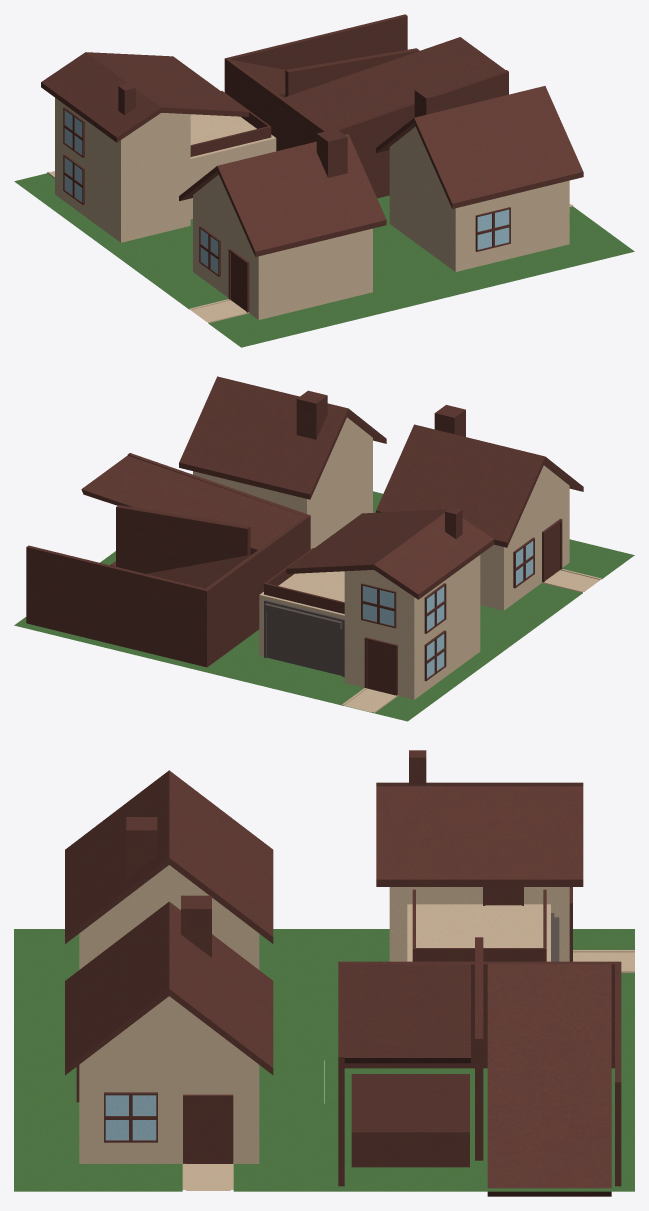
Rendered from house3.obj.
The picture shows the model from 3 angles, top to bottom: view 1: azimuth 30°, elevation 25°; view 2: azimuth 150°, elevation 25°; view 3: azimuth 270°, elevation 25°; orthographic projection. The views are drawn at different scales.
Visible parts, largest first — view 1: House_Plane.002, House.002_Plane.003, House.001_Plane.003, Cube.004_Cube.002, Plane.002_Plane.003, Cube.010_Cube.066, Cube.006_Cube.062, Cube.007_Cube.063, Cube.008_Cube.064; view 2: Cube.004_Cube.002, House.001_Plane.003, House_Plane.002, House.002_Plane.003, Plane.002_Plane.003, Plane.007_Plane.001, Cube.009_Cube.065, Cube.007_Cube.063, Cube.008_Cube.064, Cube.006_Cube.062; view 3: House.002_Plane.003, Cube.004_Cube.002, House_Plane.002, House.001_Plane.003, Plane.007_Plane.001, Plane.002_Plane.003, Cube.004_Cube.061.
Part boxes in pixels (x1,y1,x2,y2): House_Plane.002: [128, 129, 437, 347]; House.002_Plane.003: [373, 85, 634, 299]; House.001_Plane.003: [41, 52, 276, 242]; Cube.004_Cube.002: [224, 14, 508, 198]; Plane.002_Plane.003: [14, 173, 192, 264]; Cube.010_Cube.066: [475, 207, 510, 251]; Cube.006_Cube.062: [199, 226, 220, 276]; Cube.007_Cube.063: [63, 107, 84, 157]; Cube.008_Cube.064: [63, 154, 84, 205]; Cube.004_Cube.002: [26, 453, 310, 667]; House.001_Plane.003: [259, 507, 494, 712]; House_Plane.002: [376, 405, 634, 638]; House.002_Plane.003: [179, 376, 386, 548]; Plane.002_Plane.003: [211, 628, 520, 721]; Plane.007_Plane.001: [14, 551, 259, 673]; Cube.009_Cube.065: [361, 583, 396, 628]; Cube.007_Cube.063: [424, 583, 446, 633]; Cube.008_Cube.064: [424, 630, 446, 681]; Cube.006_Cube.062: [513, 537, 534, 588]; House.002_Plane.003: [14, 895, 324, 1191]; Cube.004_Cube.002: [338, 937, 621, 1196]; House_Plane.002: [14, 770, 324, 1060]; House.001_Plane.003: [376, 750, 634, 972]; Plane.007_Plane.001: [324, 1060, 634, 1191]; Plane.002_Plane.003: [324, 929, 634, 1060]; Cube.004_Cube.061: [104, 1092, 157, 1142].
Size of the model in its own units: 40 by 14.6 by 40.
